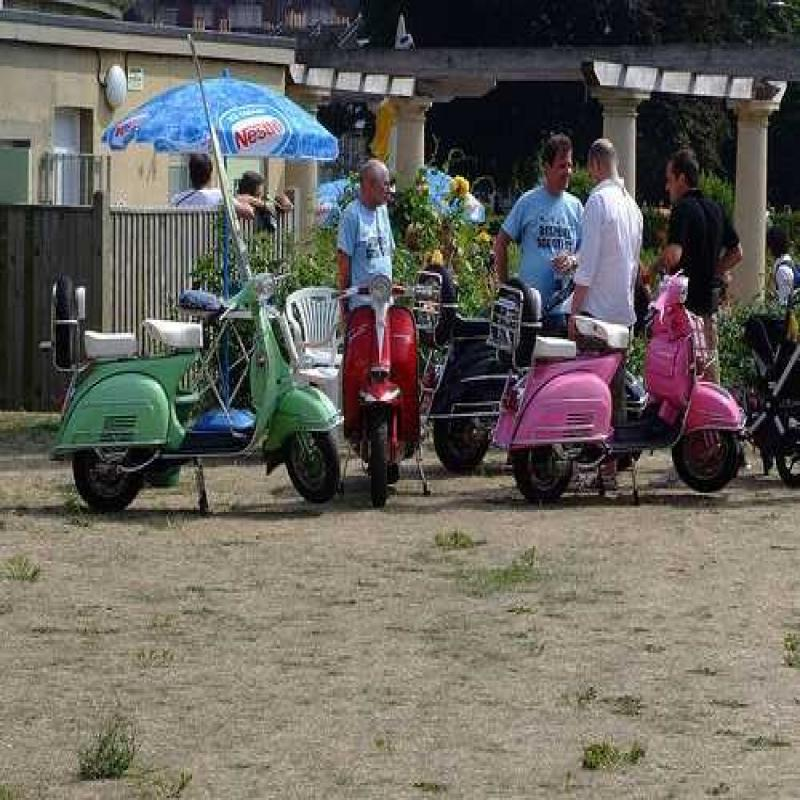bike: (58, 268, 326, 516), (520, 274, 785, 498), (332, 244, 438, 520), (442, 264, 514, 458)
